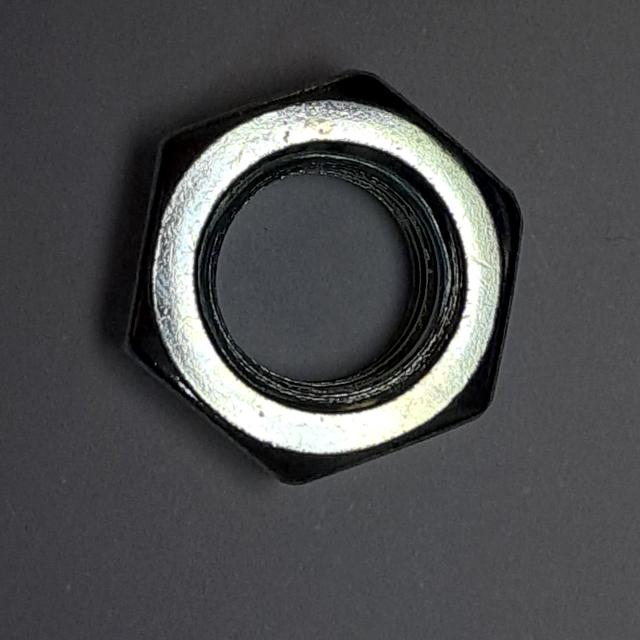Excellent: (111, 59, 535, 500)
